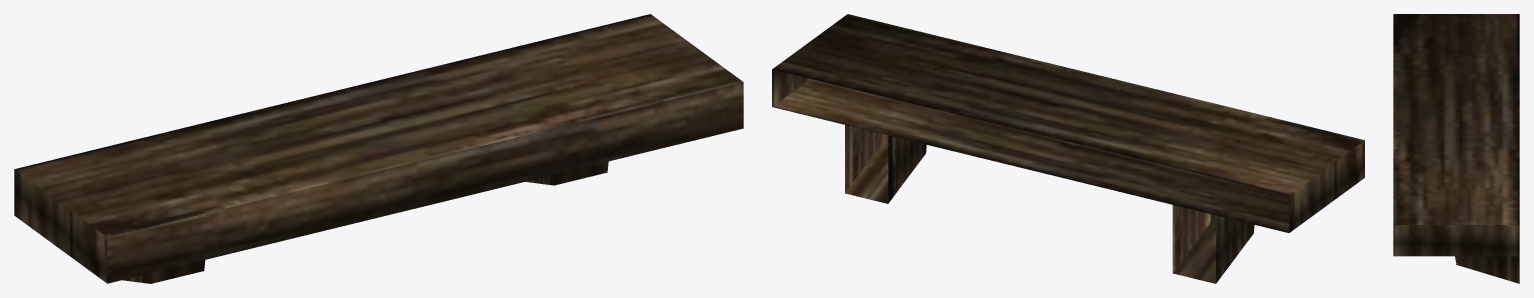
Rendered from OC_SHELF_V4.glb.
The picture shows the model from 3 angles, left to right: view 1: azimuth 30°, elevation 25°; view 2: azimuth 150°, elevation 25°; view 3: azimuth 270°, elevation 25°; orthographic projection. The views are drawn at different scales.
Visible parts, largest first — view 1: Mesh; view 2: Mesh; view 3: Mesh.
Part boxes in pixels (left/top/right/bottom): Mesh: left=14, top=14, right=743, bottom=283; Mesh: left=772, top=14, right=1364, bottom=283; Mesh: left=1393, top=14, right=1519, bottom=283.
Size of the model in its own units: 1.42 by 0.2788 by 0.36.
1 material, 1 textured.
